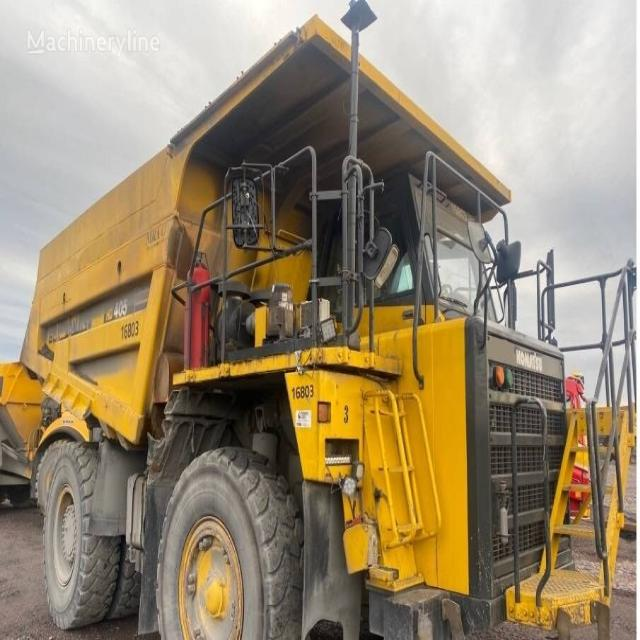dump_truck: (21, 23, 632, 640)
